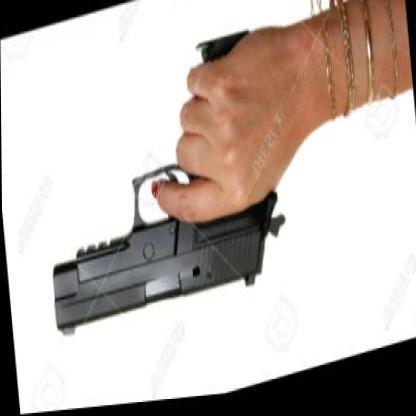pistol: (33, 20, 294, 348)
